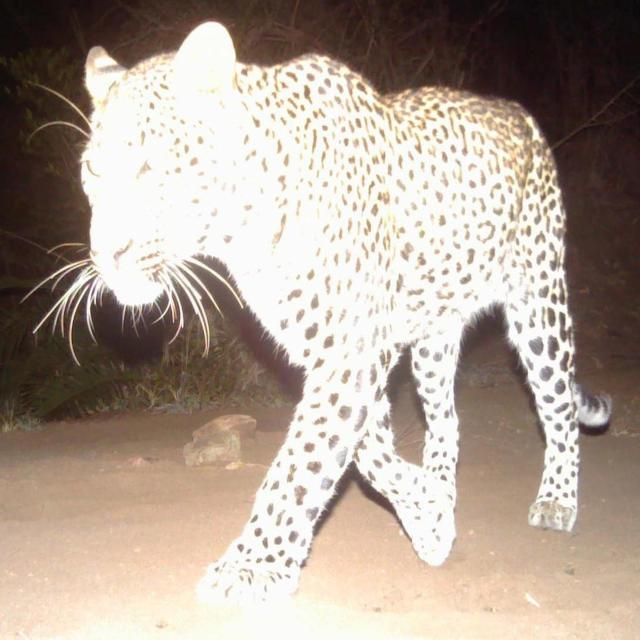Leopard: (47, 54, 623, 604)
